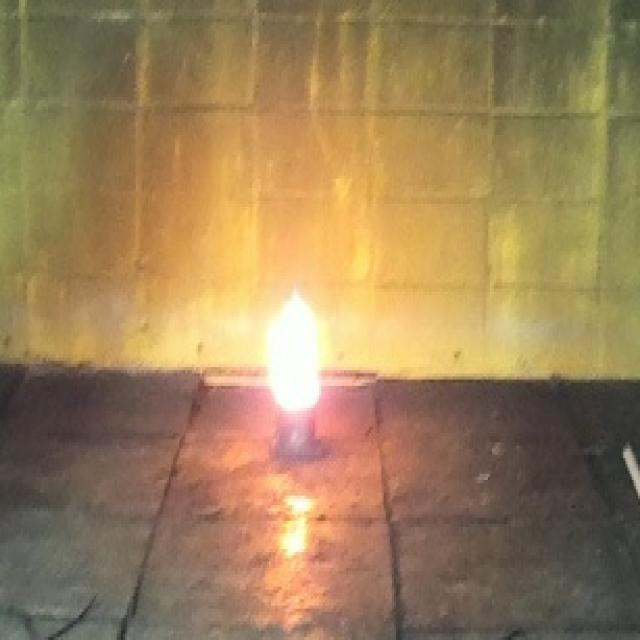Fire: (267, 284, 322, 412)
